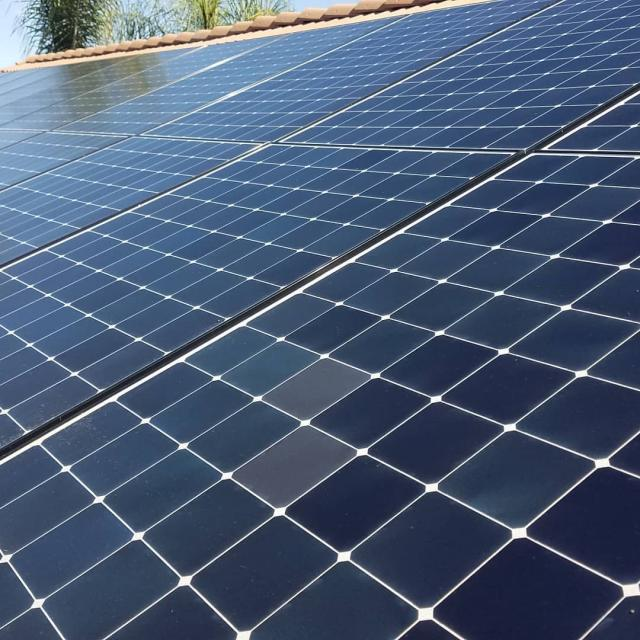clean-solar-panel: (0, 0, 640, 640)
